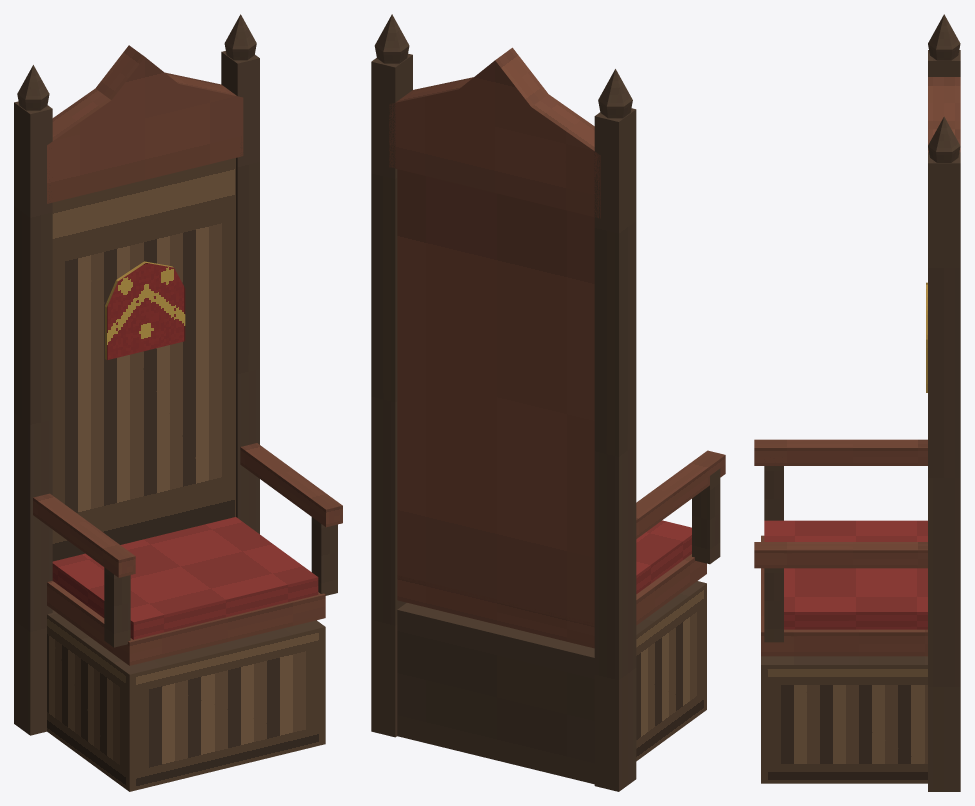
Rendered from lords-high-chair.glb.
3 renders of one model, left to right at view 1: azimuth 30°, elevation 25°; view 2: azimuth 150°, elevation 25°; view 3: azimuth 270°, elevation 25°, orthographic. The views are drawn at different scales.
Parts seen in each view (by area): view 1: lords-high-chair.001; view 2: lords-high-chair.001; view 3: lords-high-chair.001.
Boxes of the visible parts, x1=… form: lords-high-chair.001: x1=14, y1=14, x2=342, y2=791; lords-high-chair.001: x1=371, y1=14, x2=725, y2=791; lords-high-chair.001: x1=754, y1=14, x2=960, y2=791.
Size of the model in its own units: 0.8266 by 2.26 by 0.63.
Materials: 1 (1 with a texture image).
